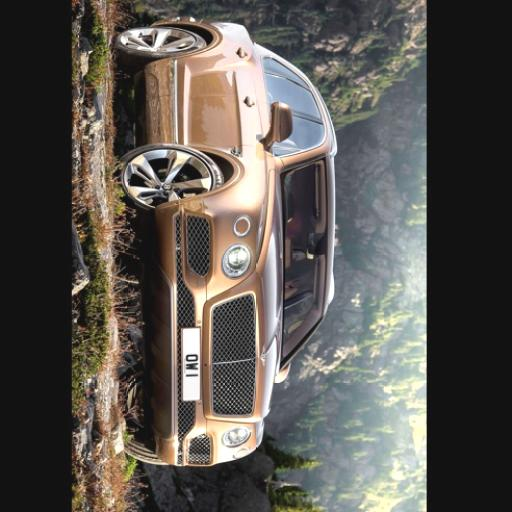sedan: (114, 22, 337, 470)
